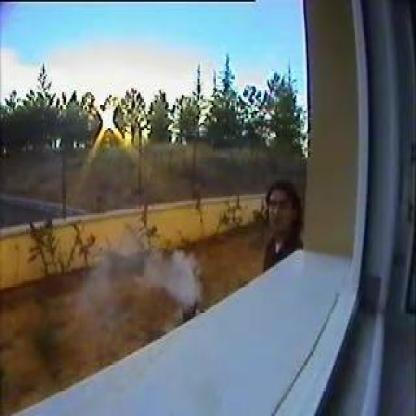-: (148, 254, 198, 301)
